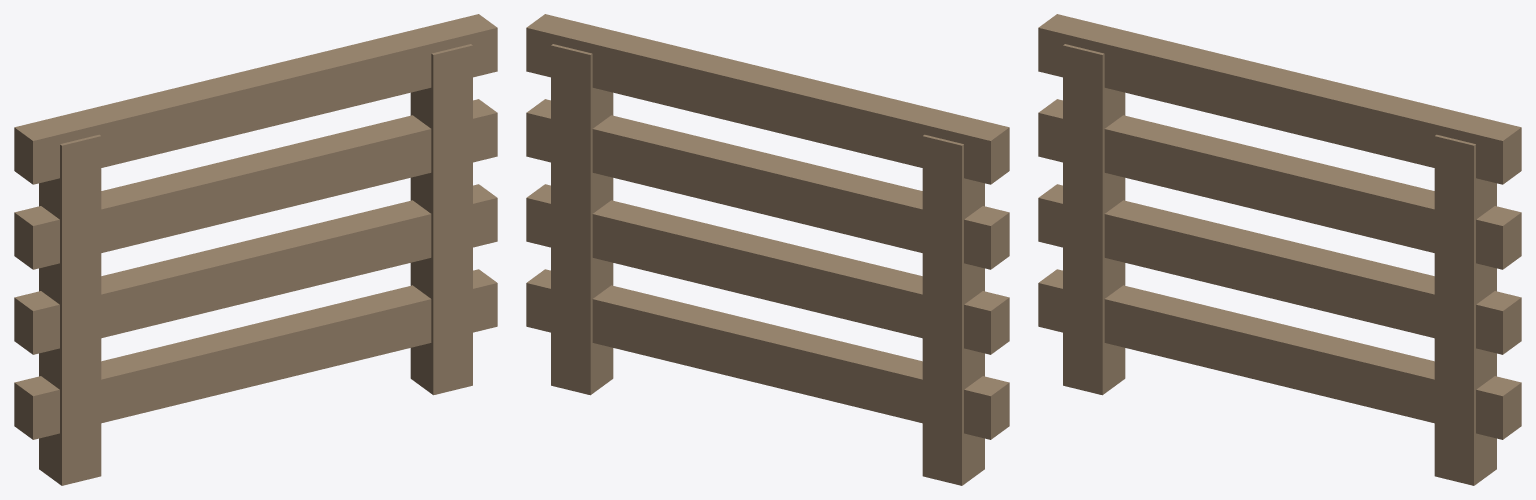
Rendered from wood_barricade.glb.
3 renders of one model, left to right at view 1: azimuth 30°, elevation 25°; view 2: azimuth 150°, elevation 25°; view 3: azimuth 330°, elevation 25°, orthographic.
Parts seen in each view (by area): view 1: body; view 2: body; view 3: body.
Boxes of the visible parts, x1,y1,x2,y2 form: body: (14,14,497,485); body: (526,14,1009,485); body: (1038,14,1521,485).
Bounding box in the file's own units: 2 × 1.44 × 0.17.
